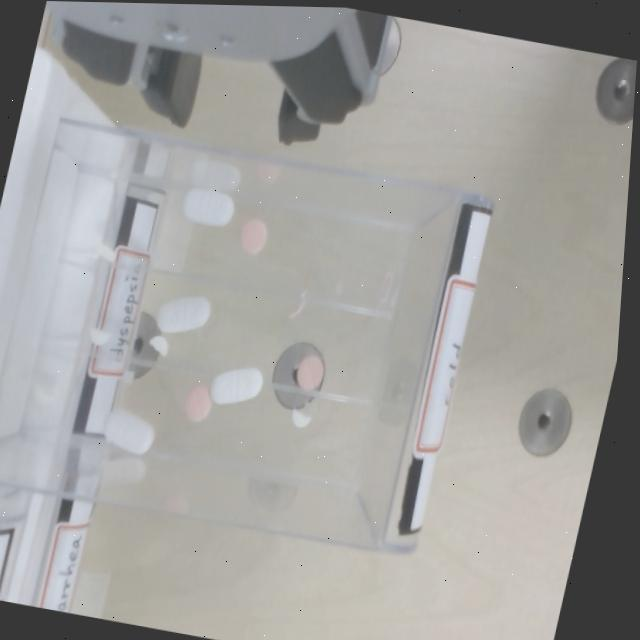amoxicle_tab: (105, 408, 155, 456), (157, 297, 211, 334), (183, 188, 234, 227), (211, 367, 263, 405)
panstar_tab: (185, 385, 213, 422), (241, 218, 268, 255), (298, 355, 325, 390)
sudafed_tab: (150, 335, 169, 358), (94, 243, 115, 263), (292, 410, 312, 429), (90, 329, 111, 346)
